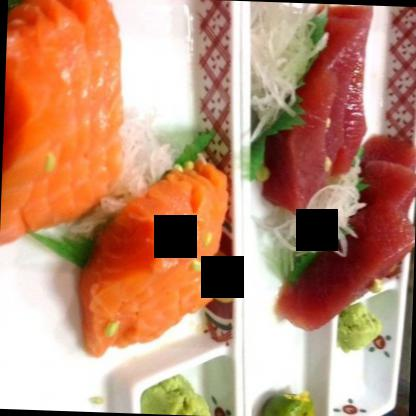salmon: (0, 0, 131, 255), (76, 163, 240, 357)
tuna: (280, 139, 409, 324), (274, 6, 380, 208)
